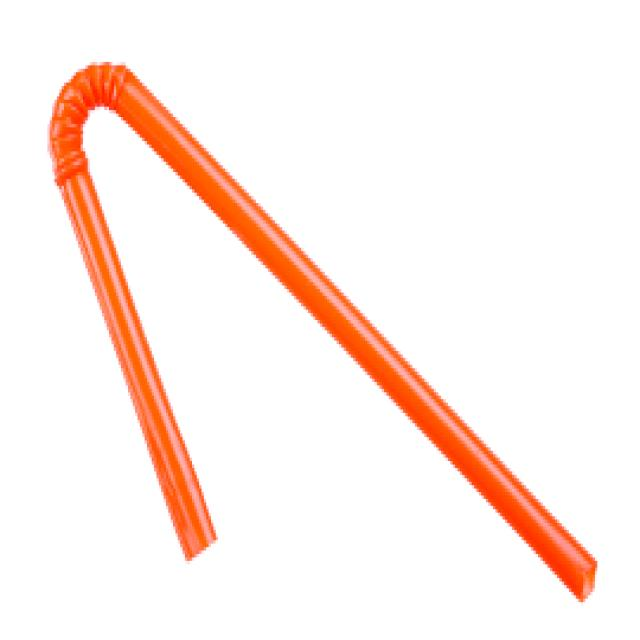plastic: (15, 15, 609, 627)
